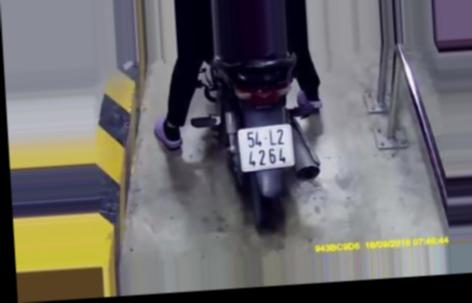License_Plate: (232, 120, 297, 174)
